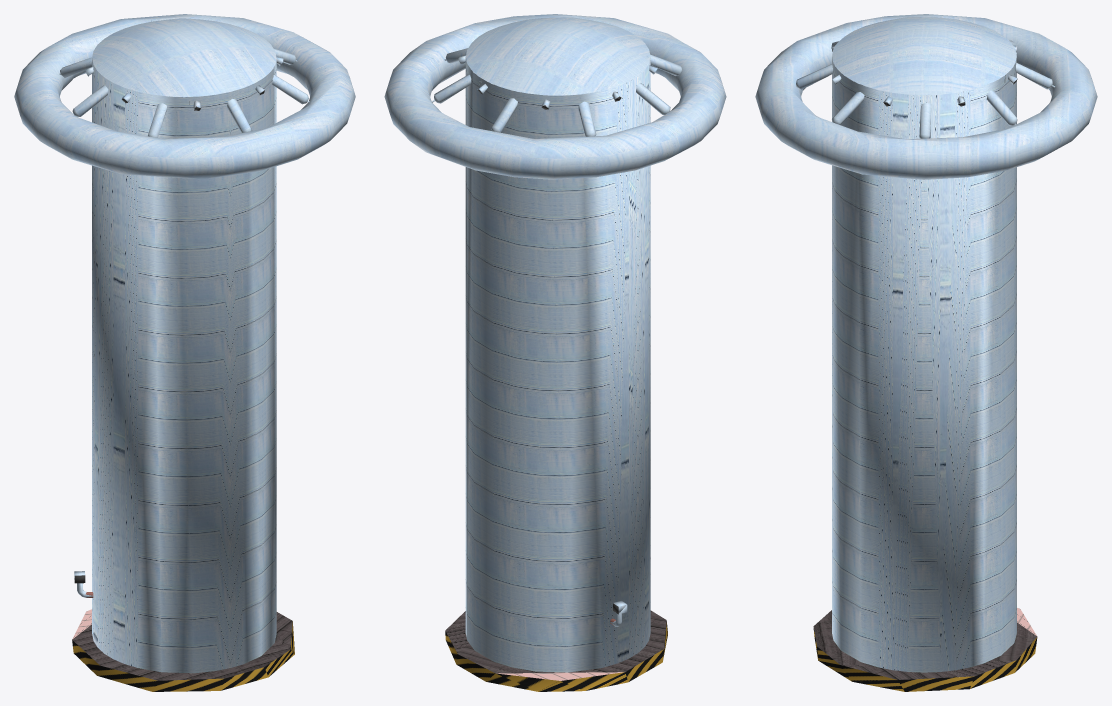
The model's file is generator-5400kv-v20260922b.glb.
3 views of the same model, side by side, from view 1: azimuth 30°, elevation 25°; view 2: azimuth 150°, elevation 25°; view 3: azimuth 270°, elevation 25° (orthographic).
Visible parts, largest first — view 1: 5400kV冲击电压发生器WK_0003, 5400kV冲击电压发生器WK_0004, 5400kV冲击电压发生器WK_0002, 5400kV冲击电压发生器WK_0001; view 2: 5400kV冲击电压发生器WK_0003, 5400kV冲击电压发生器WK_0004, 5400kV冲击电压发生器WK_0002, 5400kV冲击电压发生器WK_0001; view 3: 5400kV冲击电压发生器WK_0003, 5400kV冲击电压发生器WK_0004, 5400kV冲击电压发生器WK_0002, 5400kV冲击电压发生器WK_0001.
Boxes of the visible parts, x1,y1,x2,y2 form: 5400kV冲击电压发生器WK_0003: (92, 20, 276, 673); 5400kV冲击电压发生器WK_0004: (14, 14, 355, 179); 5400kV冲击电压发生器WK_0002: (92, 18, 276, 97); 5400kV冲击电压发生器WK_0001: (72, 609, 294, 691); 5400kV冲击电压发生器WK_0003: (465, 40, 650, 672); 5400kV冲击电压发生器WK_0004: (384, 14, 726, 179); 5400kV冲击电压发生器WK_0002: (466, 17, 650, 95); 5400kV冲击电压发生器WK_0001: (445, 610, 667, 691); 5400kV冲击电压发生器WK_0003: (832, 33, 1016, 672); 5400kV冲击电压发生器WK_0004: (755, 14, 1097, 179); 5400kV冲击电压发生器WK_0002: (832, 17, 1016, 95); 5400kV冲击电压发生器WK_0001: (813, 608, 1037, 691).
Size of the model in its own units: 11.27 by 22.34 by 11.27.
Materials: 18 (18 with a texture image).
